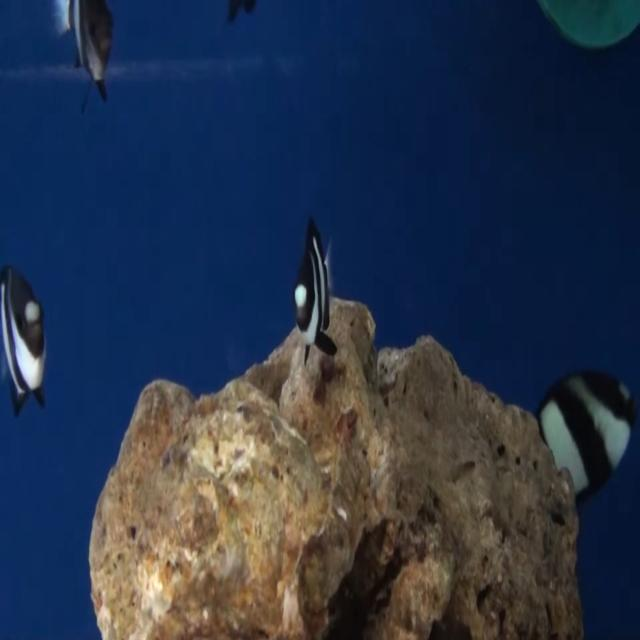ThreeStripedDamselfish: (286, 210, 341, 372)
